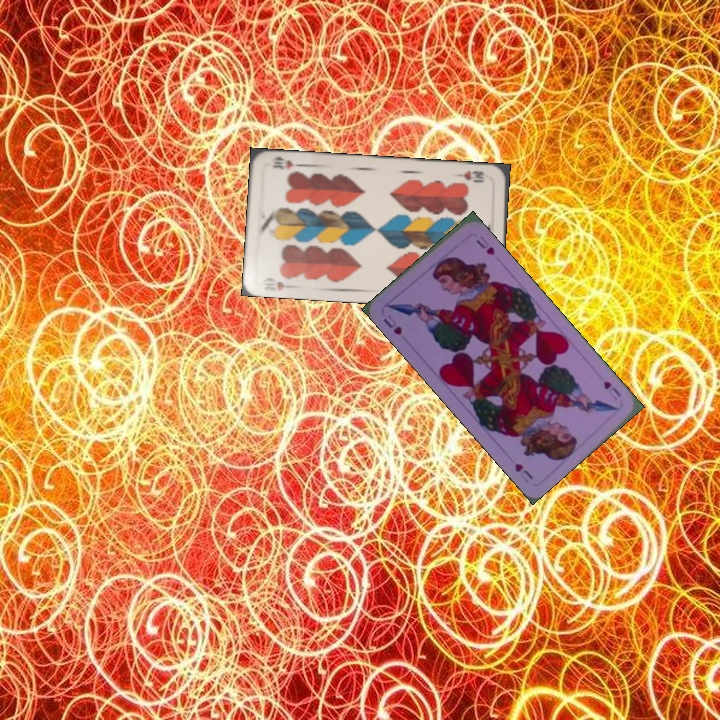H10: (260, 273, 297, 293), (453, 166, 487, 185)
HU: (379, 311, 405, 337), (599, 376, 624, 403)
